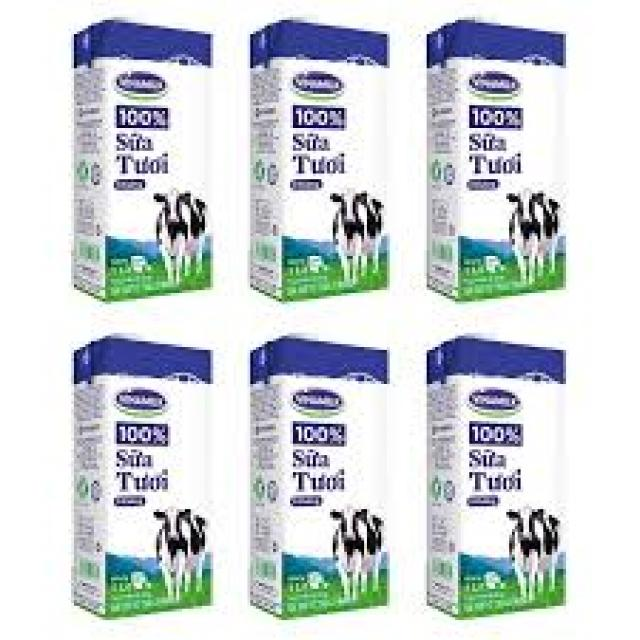non_white_jug: (411, 320, 582, 624), (415, 8, 583, 316), (49, 319, 218, 623), (236, 3, 398, 316), (51, 7, 219, 306), (228, 330, 392, 620)
